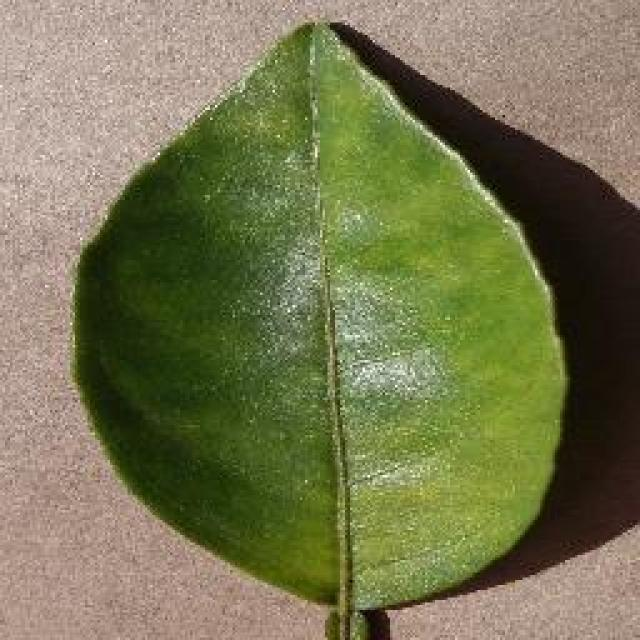Orange_Haunglongbing_Citrus_greening: (132, 129, 506, 540)
